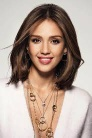female: (23, 11, 68, 79)
